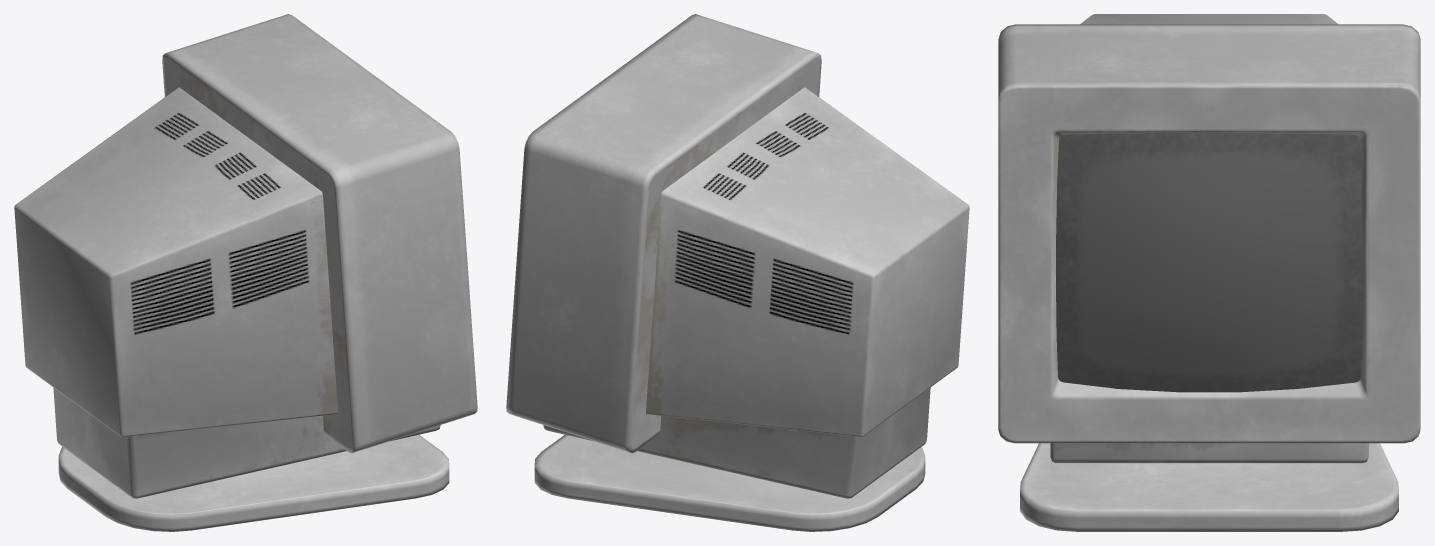
File: monitor.glb
The picture shows the model from 3 angles, left to right: view 1: azimuth 30°, elevation 25°; view 2: azimuth 150°, elevation 25°; view 3: azimuth 270°, elevation 25°; orthographic projection. The views are drawn at different scales.
Visible parts, largest first — view 1: monitor; view 2: monitor; view 3: monitor, screen.
Boxes of the visible parts, box(x1,y1,x2,y2) form: monitor: box(14, 14, 477, 531); monitor: box(506, 14, 969, 531); monitor: box(998, 14, 1420, 531); screen: box(1056, 133, 1362, 392).
Bounding box in the file's own units: 0.5291 × 0.5492 × 0.4821.
Materials: 1 (1 with a texture image).
